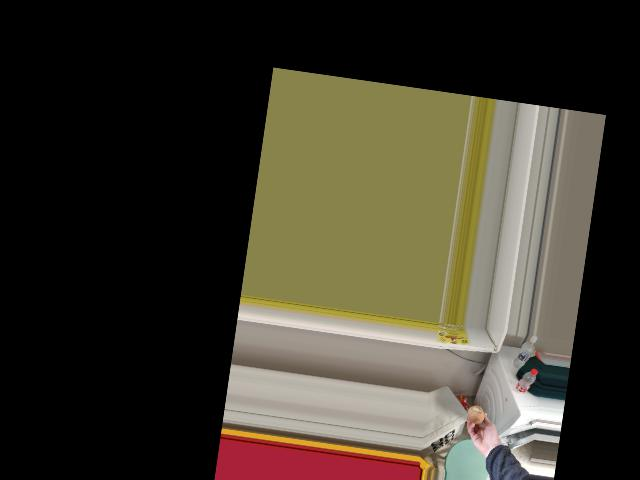sweet_potato: (467, 405, 485, 427)
